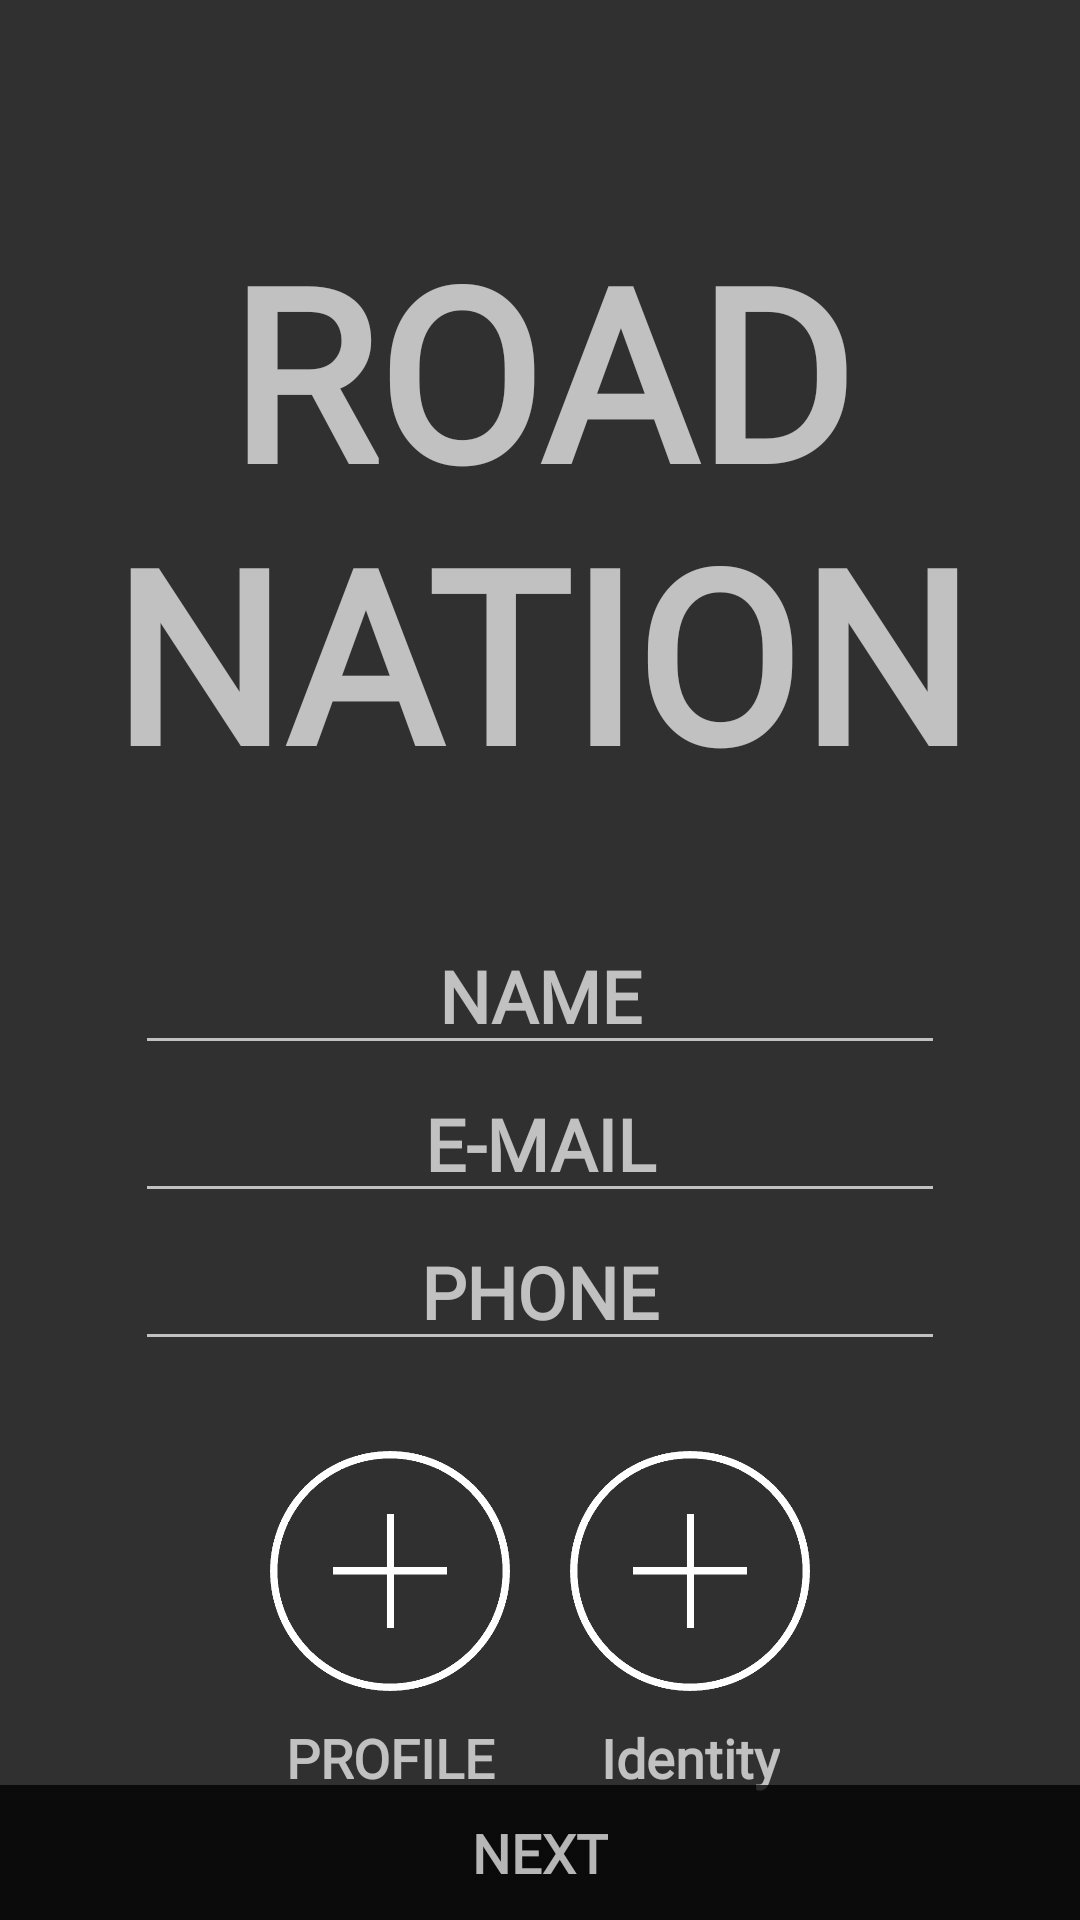

Named icons in this screenshot (1080px×1920px) and their bounding boxes, (x1, y1, x2, y2):
plus: (270, 1451, 510, 1691), (570, 1451, 810, 1691)
